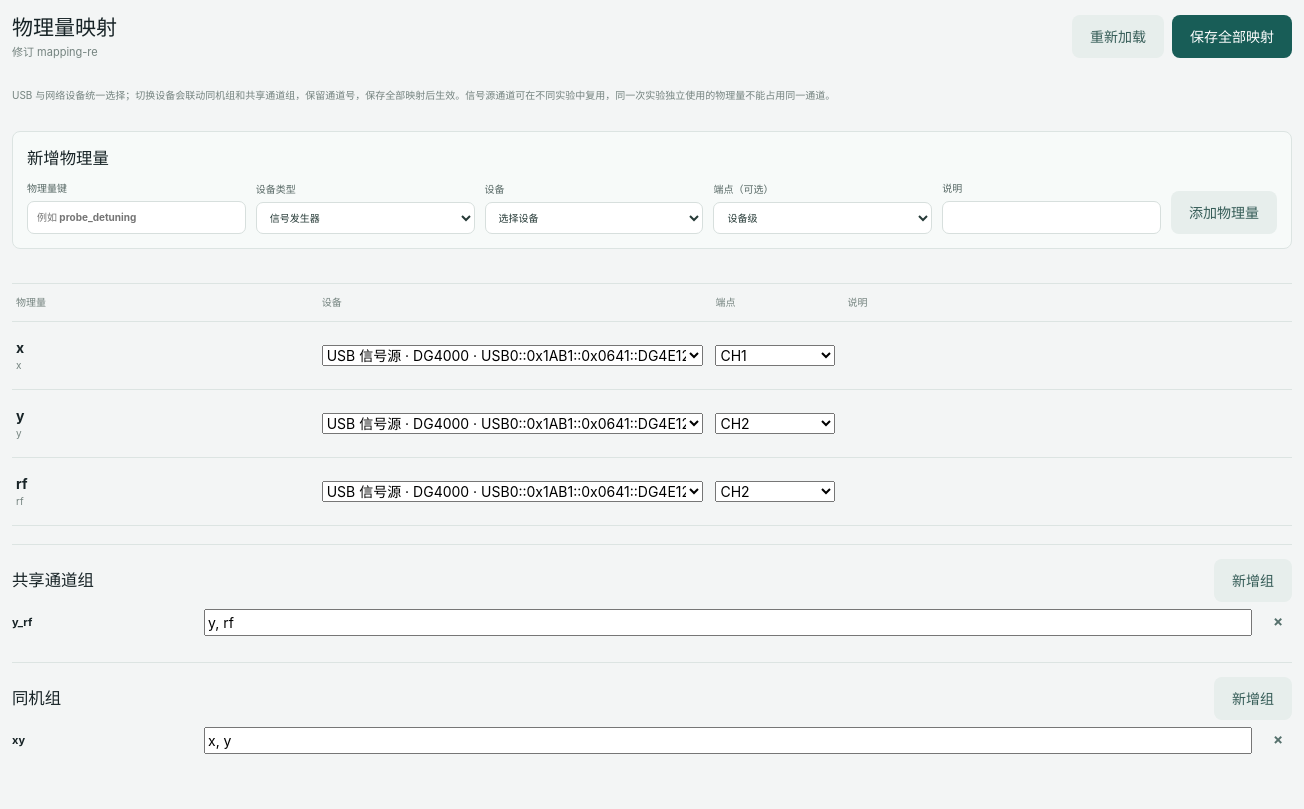
Test: 物理量设备成组切换 › 同机组成员按物理量键校验，未知成员拒绝切换与保存
Expected: the dropdown named "x 设备" is shown, [322,345,704,366]
Replace the text in the field showing "x, y" in the row of "xy" with "x, usb" at (728, 741), box [204,727,1252,754]
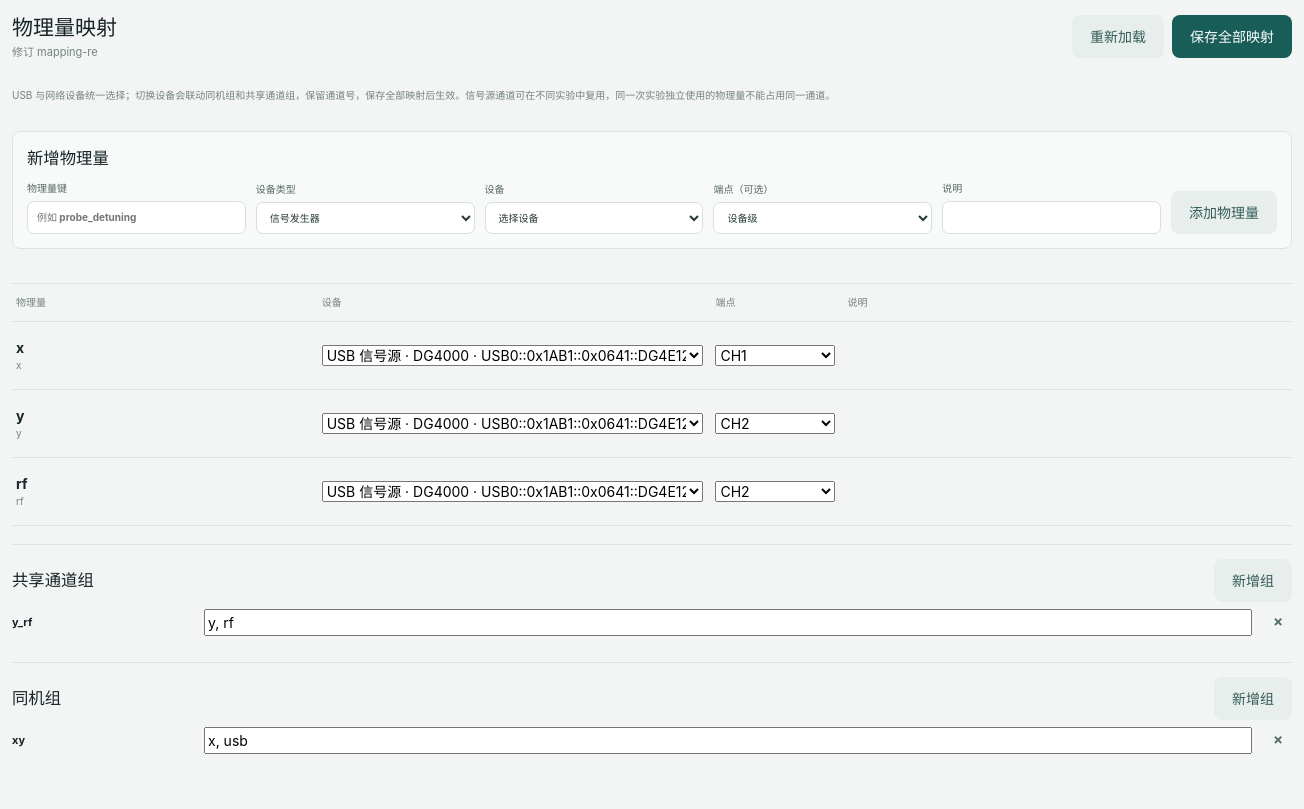
Select "网络信号源 · DG900 · TCPIP0::192.168.124.31::INSTR · DG9Q321" in the dropdown named "x 设备" at (513, 355), box [322,345,704,366]
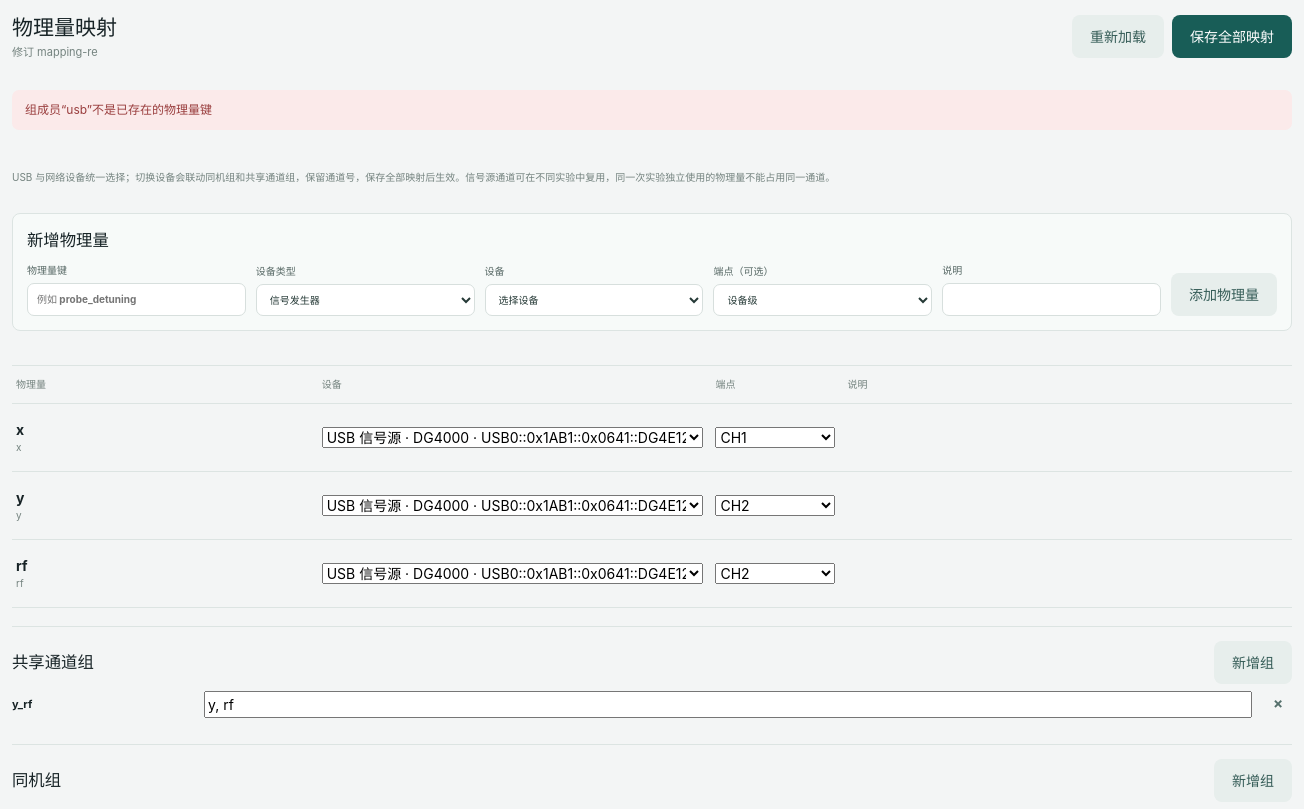
Now the text "组成员“usb”不是已存在的物理量键" is shown, box [12,90,1292,130]
Click the button "保存全部映射" at (1232, 36), box [1172,14,1292,58]
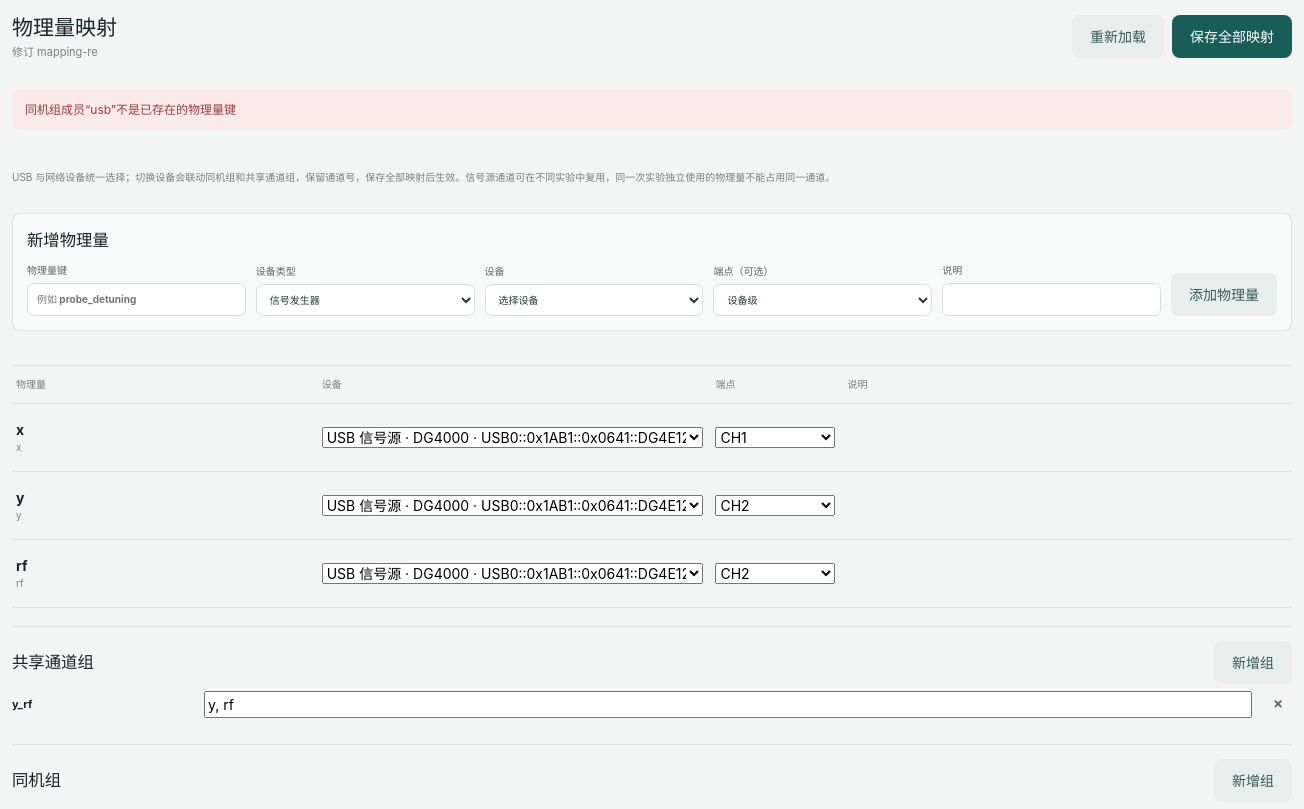
Now the text "同机组成员“usb”不是已存在的物理量键" is shown, box [12,90,1292,130]
